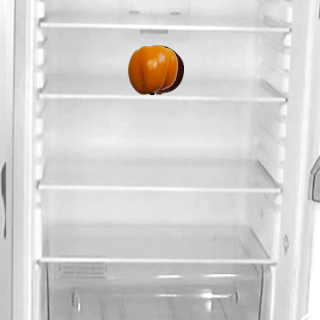Apple Braeburn: (133, 44, 183, 94)
Pepper Yellow: (127, 44, 177, 94)
